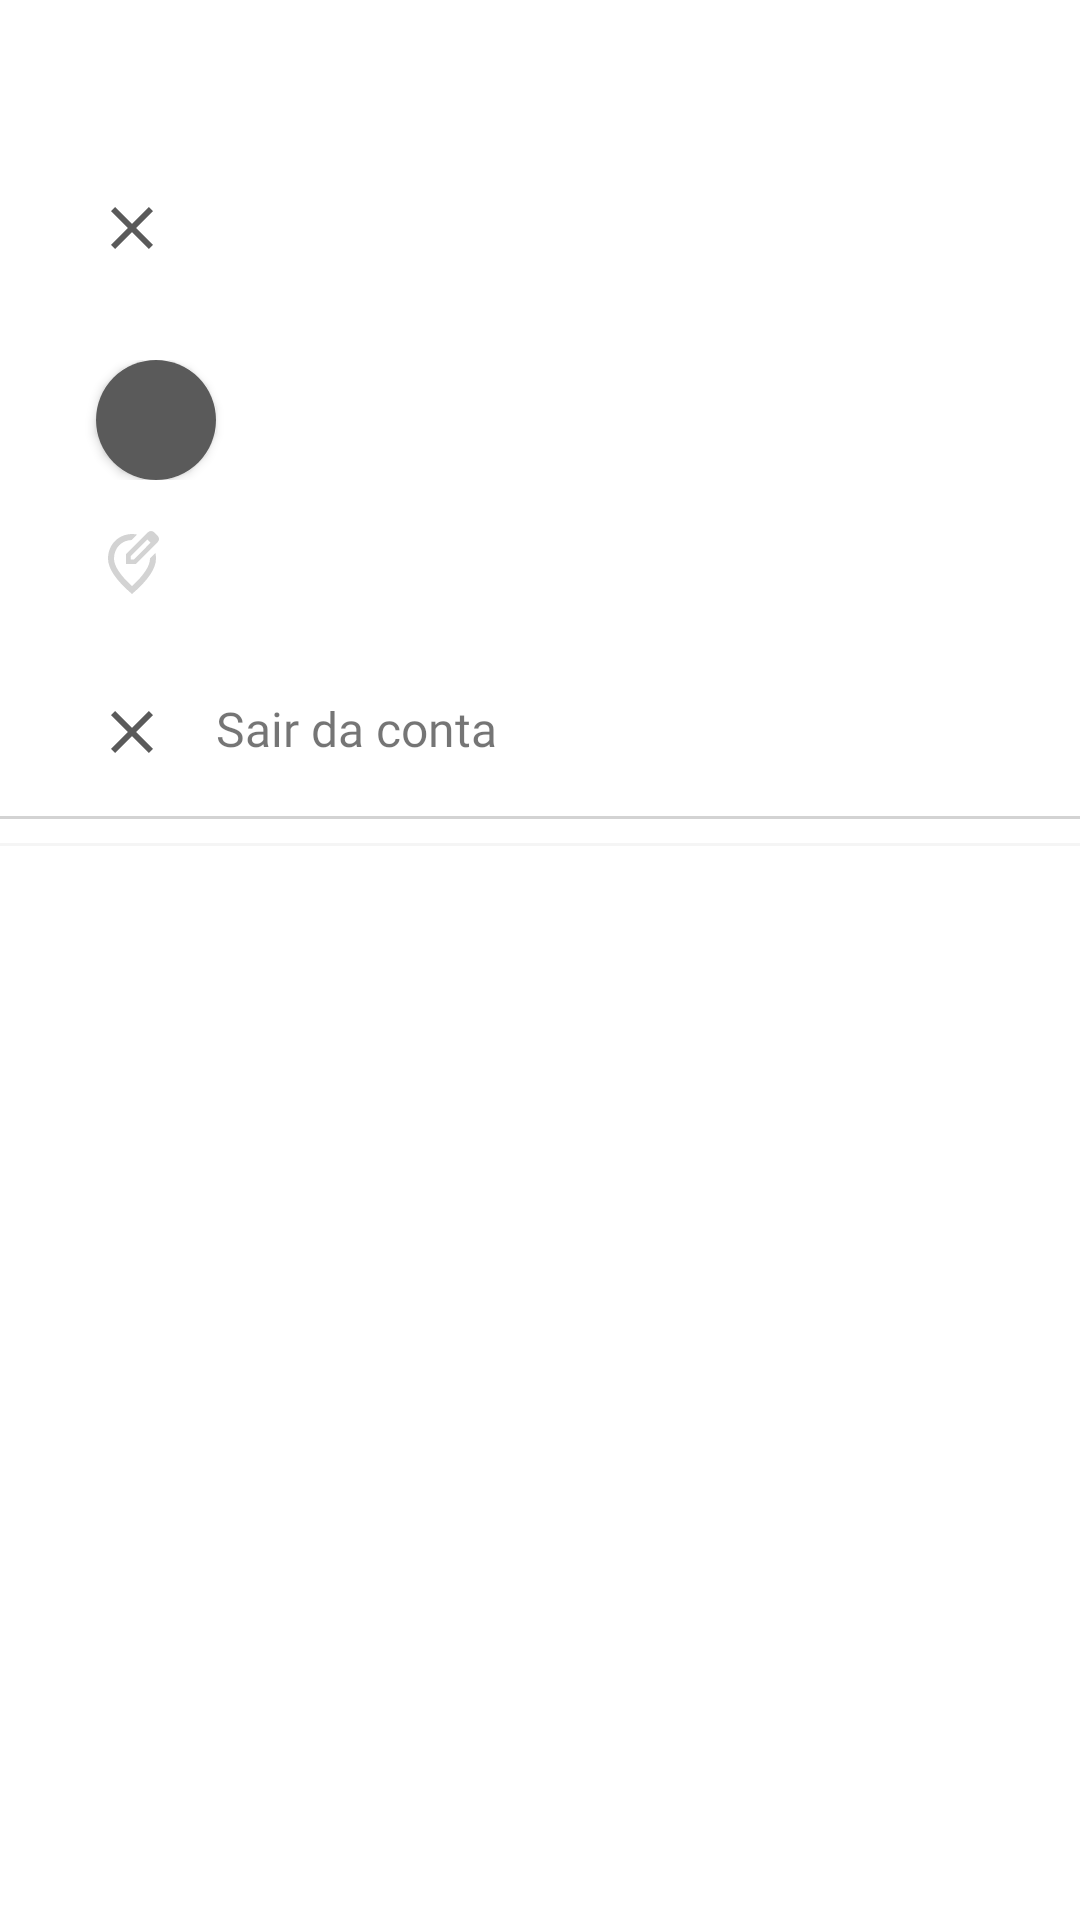

Icon click points for this 1080px x 1920px phone screenshot, format (x=x, y=y):
close button: (x=132, y=228)
